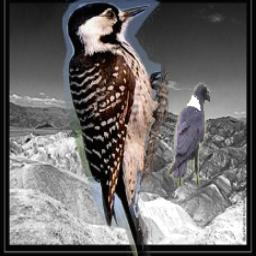Crow: (168, 83, 211, 187)
Woodpecker: (63, 0, 170, 256)
